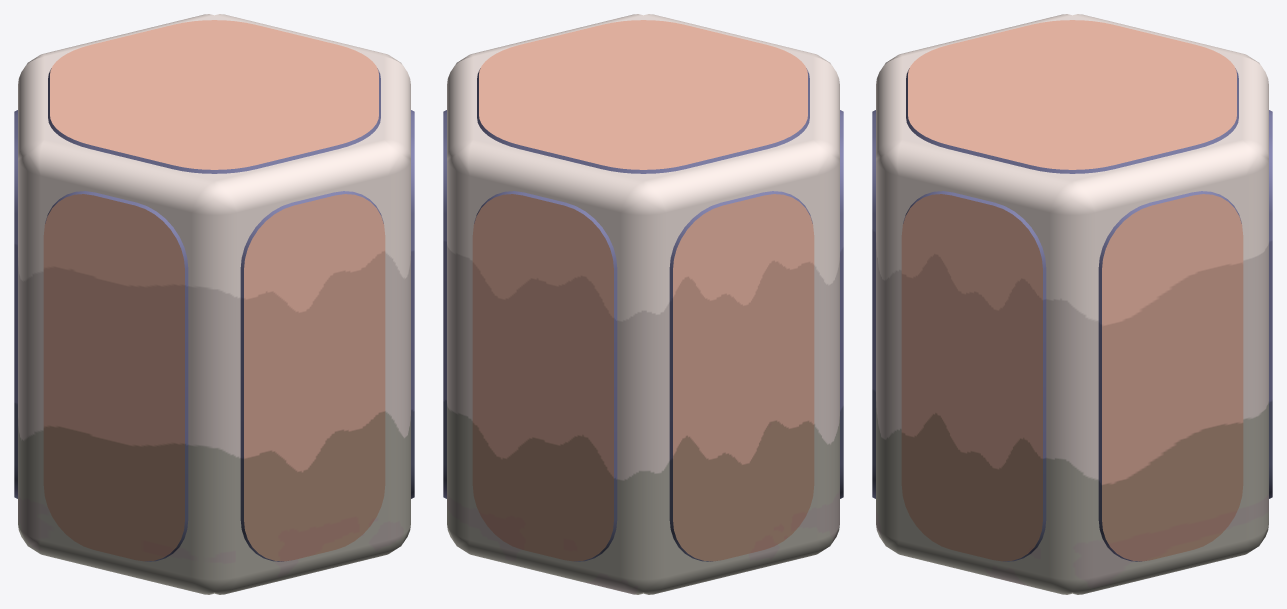
Rendered from R4B_HexColumn.glb.
3 views of the same model, side by side, from view 1: azimuth 30°, elevation 25°; view 2: azimuth 150°, elevation 25°; view 3: azimuth 270°, elevation 25° (orthographic).
Parts seen in each view (by area): view 1: R4B_HexColumn; view 2: R4B_HexColumn; view 3: R4B_HexColumn.
Part boxes in pixels (x1,y1,x2,y2): R4B_HexColumn: (14, 14, 414, 594); R4B_HexColumn: (443, 14, 843, 594); R4B_HexColumn: (872, 14, 1272, 594).
Size of the model in its own units: 0.4947 by 0.52 by 0.4503.
Materials: 3 (3 with a texture image).
